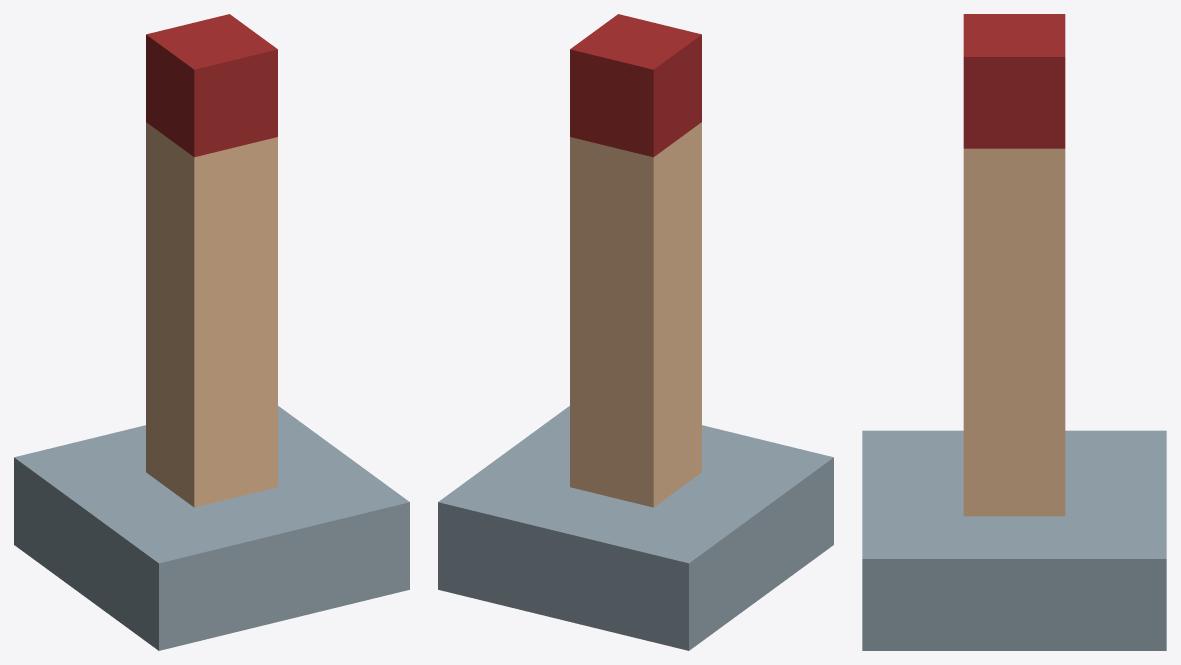
The model's file is Candle0.obj.
3 renders of one model, left to right at view 1: azimuth 30°, elevation 25°; view 2: azimuth 150°, elevation 25°; view 3: azimuth 270°, elevation 25°, orthographic. The views are drawn at different scales.
Bounding box in the file's own units: 3 × 6 × 3.
1 material, 1 textured.
